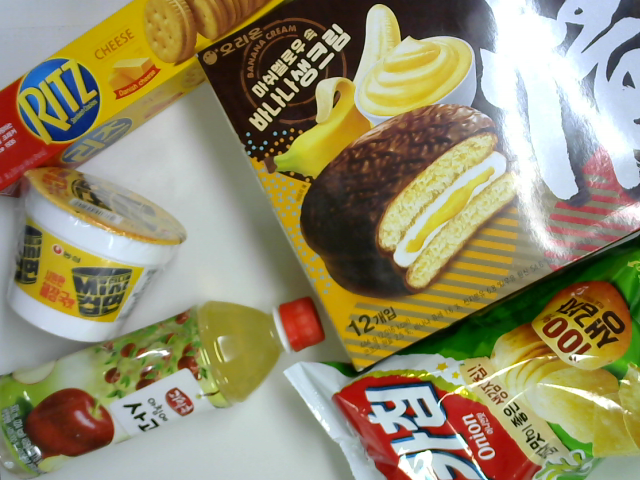Choco_Pie_Banana: (192, 1, 640, 372)
Hejangmini: (5, 167, 187, 345)
Morning_Apple_500ml: (1, 294, 326, 480)
Pocachip_Onion: (284, 243, 640, 480)
Ritz_Sand_Cracker: (1, 1, 289, 199)
